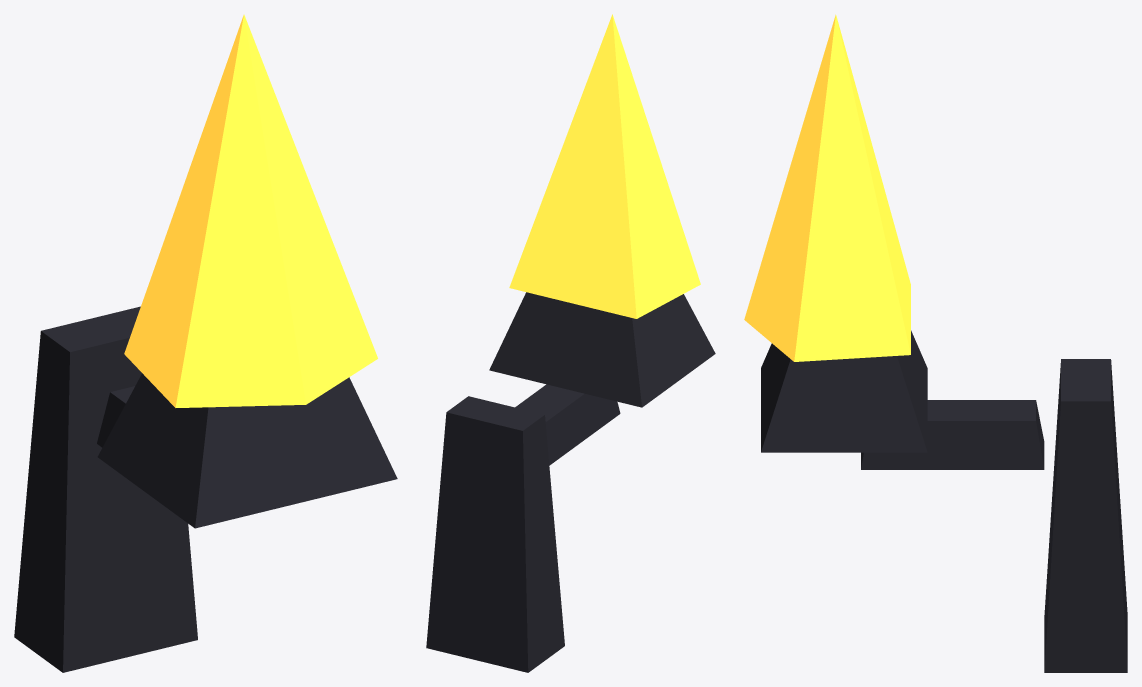
The model's file is Torch_FlameLoop_preview.glb.
3 renders of one model, left to right at view 1: azimuth 30°, elevation 25°; view 2: azimuth 150°, elevation 25°; view 3: azimuth 270°, elevation 25°, orthographic. The views are drawn at different scales.
Parts seen in each view (by area): view 1: Support, Flame; view 2: Support, Flame; view 3: Support, Flame.
Boxes of the visible parts, x1,y1,x2,y2 form: Support: (14, 306, 397, 672); Flame: (124, 14, 377, 407); Support: (426, 292, 715, 672); Flame: (509, 14, 700, 318); Support: (761, 330, 1127, 672); Flame: (744, 14, 910, 361).
Bounding box in the file's own units: 0.24 × 0.83 × 0.46.
